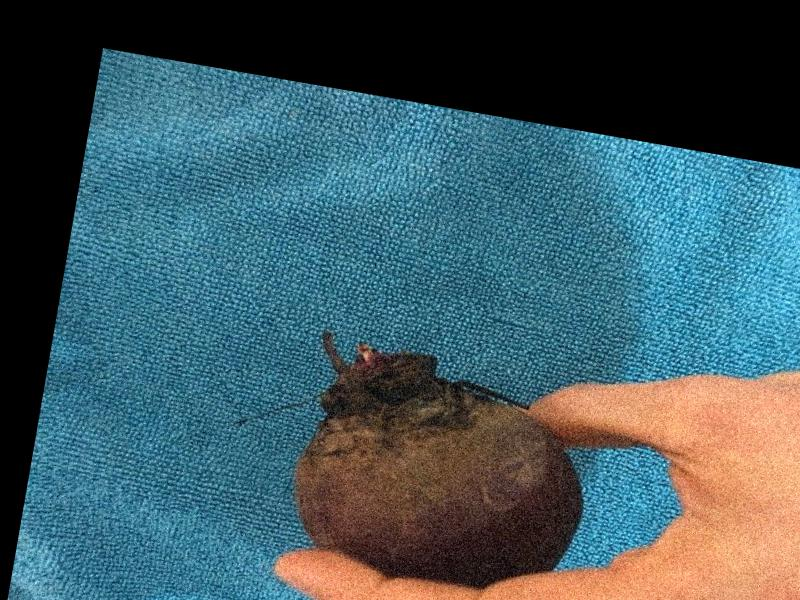Beet: (282, 331, 601, 600)
